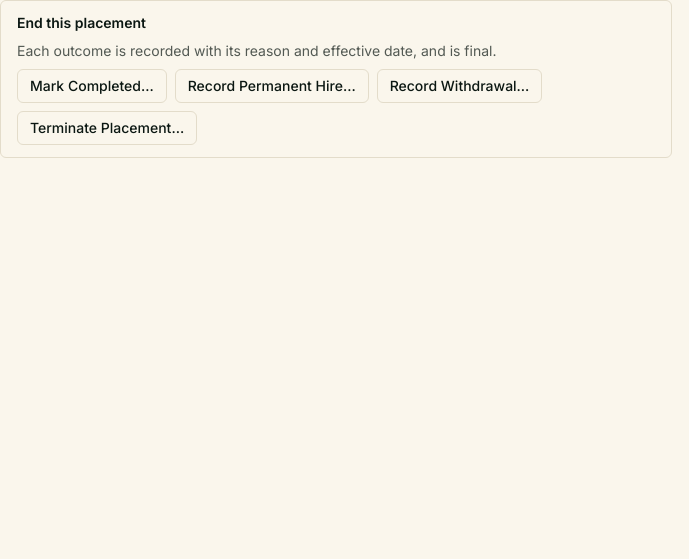
TerminalOutcomePanel (Story 5.8) › requires employer for a permanent hire, prefilled with the host organization
Click the button "Record Permanent Hire…": (272, 86) [175,69,369,103]
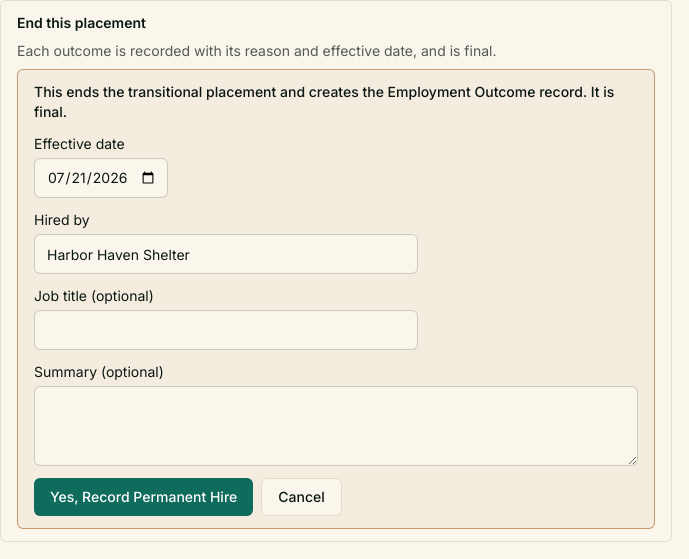
Now the text "creates the Employment Outcome record" is shown, box [34,83,614,120]
Now the field labelled "Hired by" holds "Harbor Haven Shelter", box [34,234,418,274]
